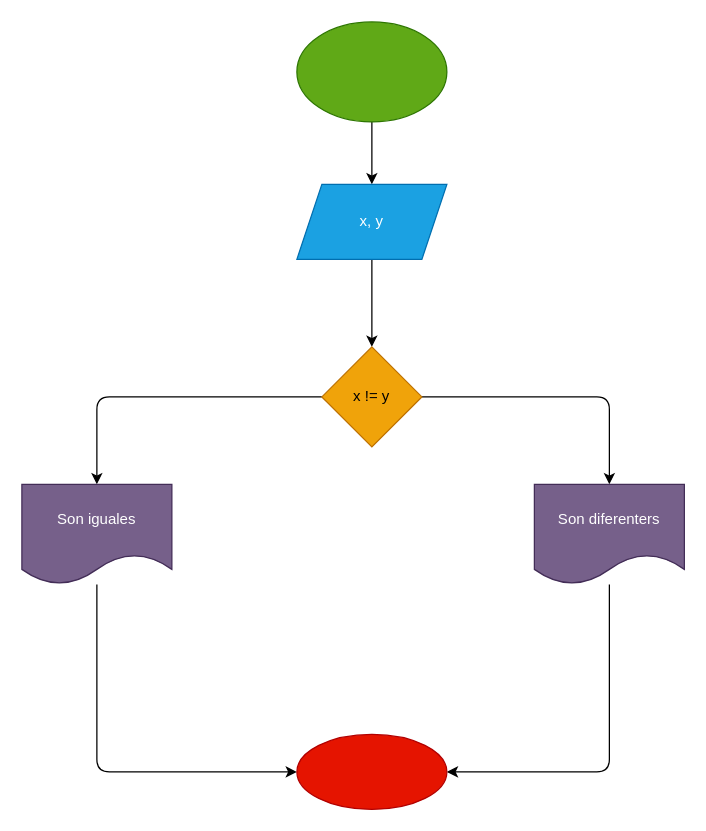
The diagram is 706 pixels wide and 831 high, and some of its shapes have lost their labels. The centre of each missing label's shape, as x and y in pixels:
"FIN" belongs at point 371,771.
"INICIO" belongs at point 371,71.
